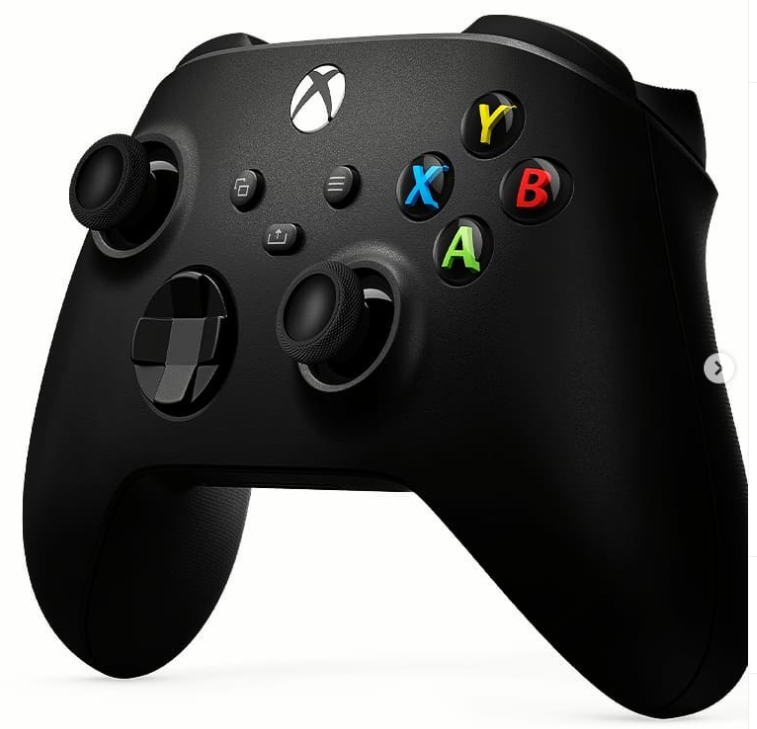gamingconsole: (24, 13, 749, 713)
